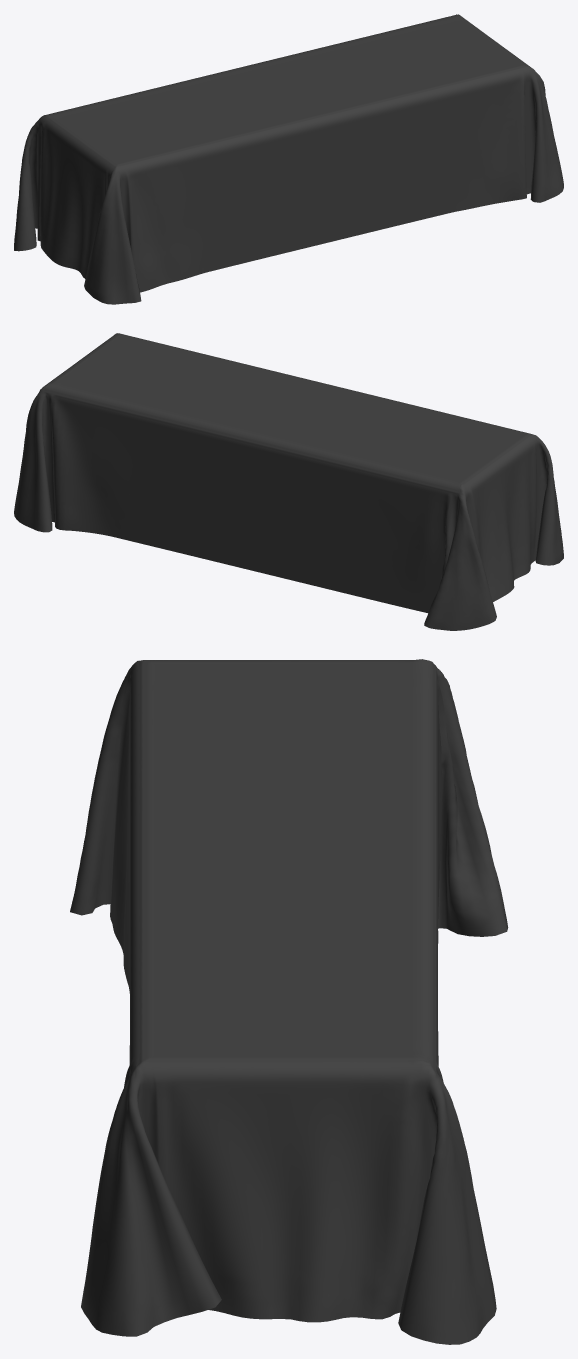
Rendered from throw-8ft-4.glb.
The picture shows the model from 3 angles, top to bottom: view 1: azimuth 30°, elevation 25°; view 2: azimuth 150°, elevation 25°; view 3: azimuth 270°, elevation 25°; orthographic projection. The views are drawn at different scales.
Visible parts, largest first — view 1: geometry_0; view 2: geometry_0; view 3: geometry_0.
Part boxes in pixels (x1,y1,x2,y2): geometry_0: [14, 14, 563, 304]; geometry_0: [14, 333, 563, 630]; geometry_0: [70, 659, 508, 1344].
Bounding box in the file's own units: 2.77 × 0.7356 × 1.1.
Materials: 1 (1 with a texture image).
